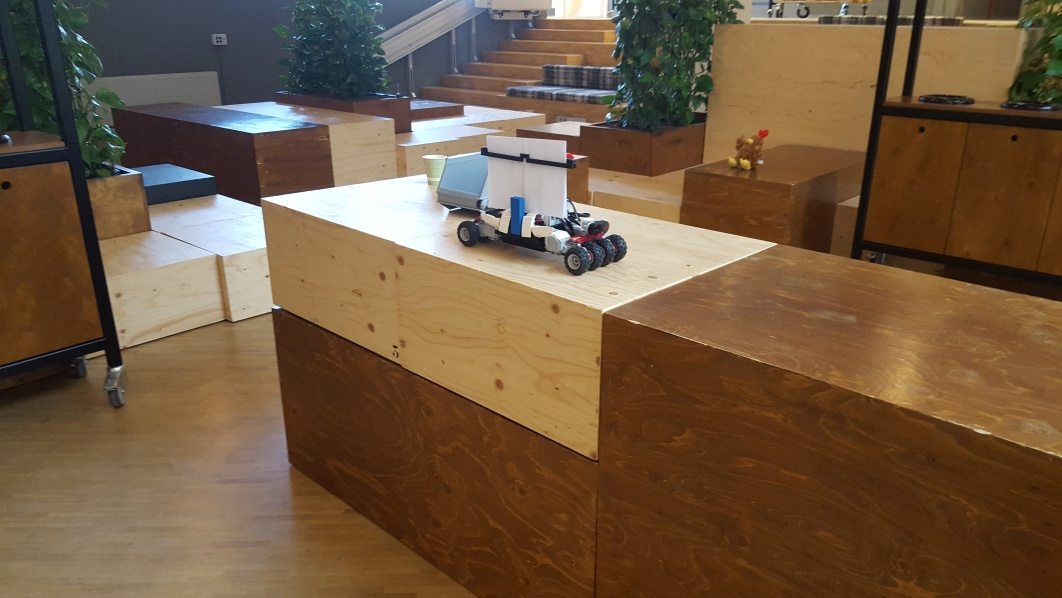beam: (509, 193, 525, 236)
chicken: (725, 129, 774, 169)
cup: (420, 153, 446, 184)
tray: (434, 153, 483, 213)
